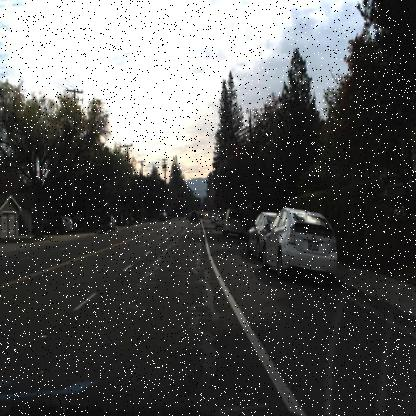car: (260, 204, 339, 284), (260, 206, 341, 283), (244, 208, 279, 258), (37, 213, 74, 239), (223, 206, 247, 242), (36, 214, 66, 235), (99, 212, 115, 235), (100, 212, 116, 232)
